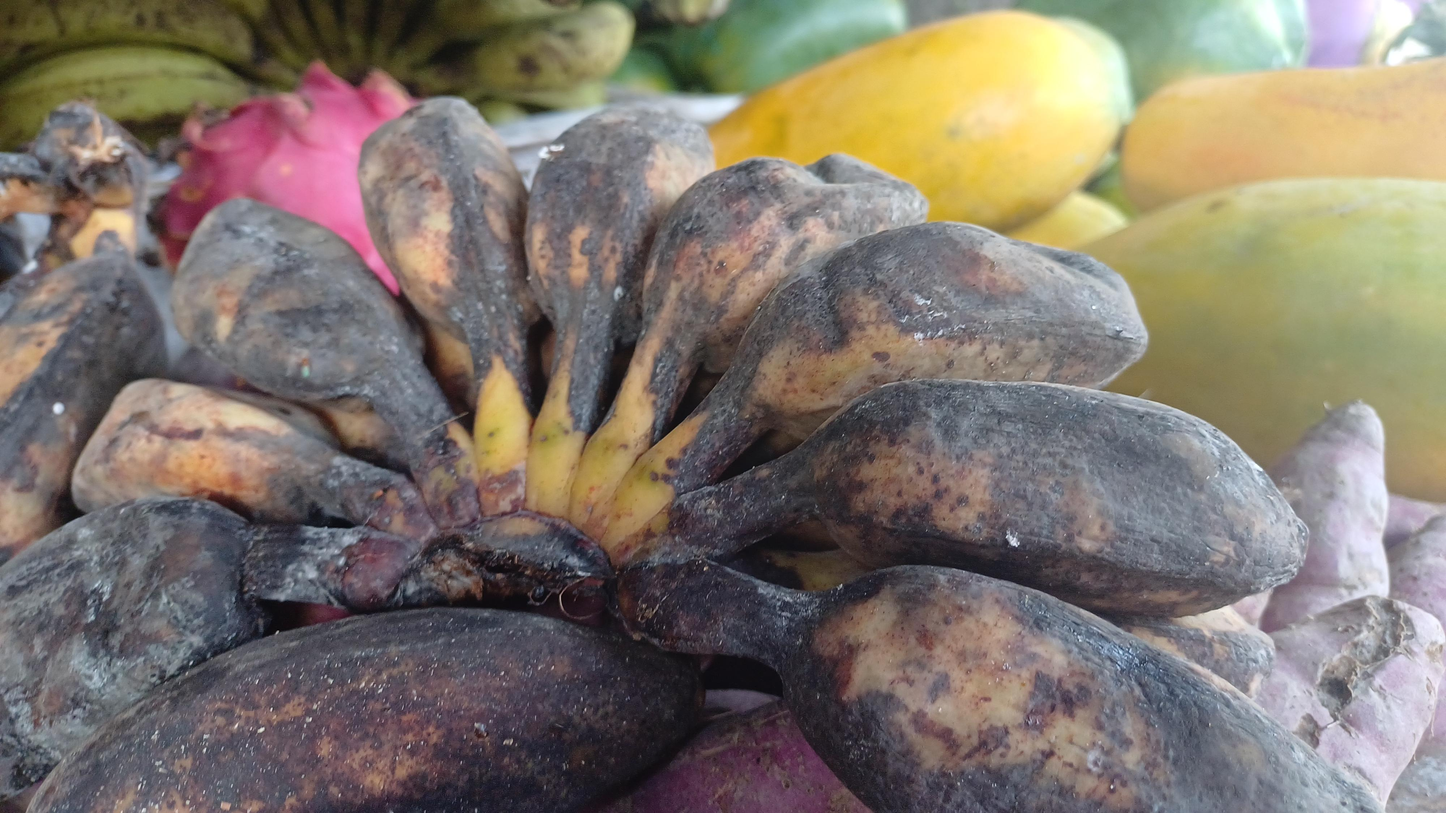overripe: (0, 94, 1405, 813)
